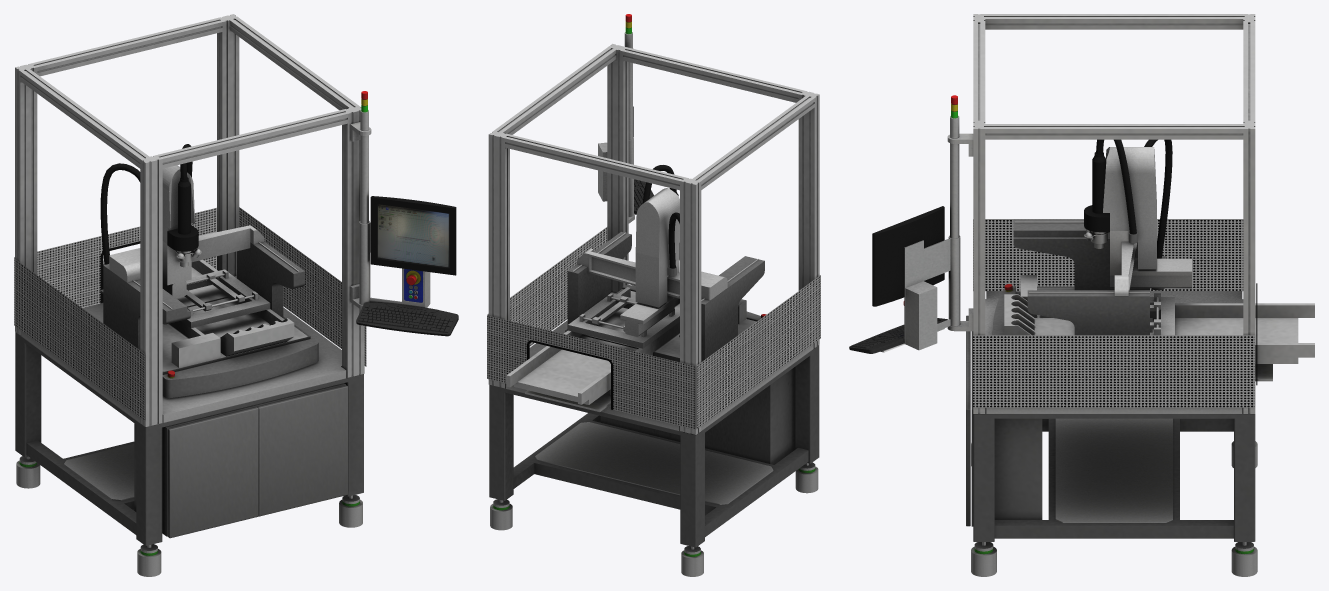
The model's file is SMDRework.glb.
The picture shows the model from 3 angles, left to right: view 1: azimuth 30°, elevation 25°; view 2: azimuth 150°, elevation 25°; view 3: azimuth 270°, elevation 25°; orthographic projection. The views are drawn at different scales.
Size of the model in its own units: 1418 by 2230 by 1984.
Materials: 25 (25 with a texture image).
